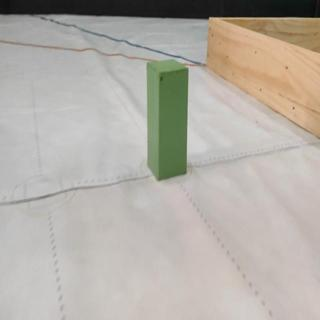greenbox: (145, 59, 190, 182)
